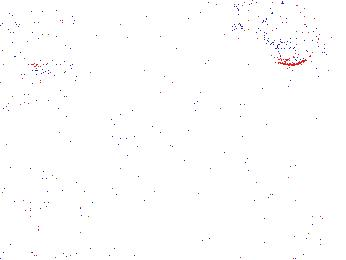moon jellyfish: (129, 45, 206, 137), (1, 45, 87, 114), (237, 1, 321, 67), (1, 1, 70, 76), (161, 12, 247, 69)
